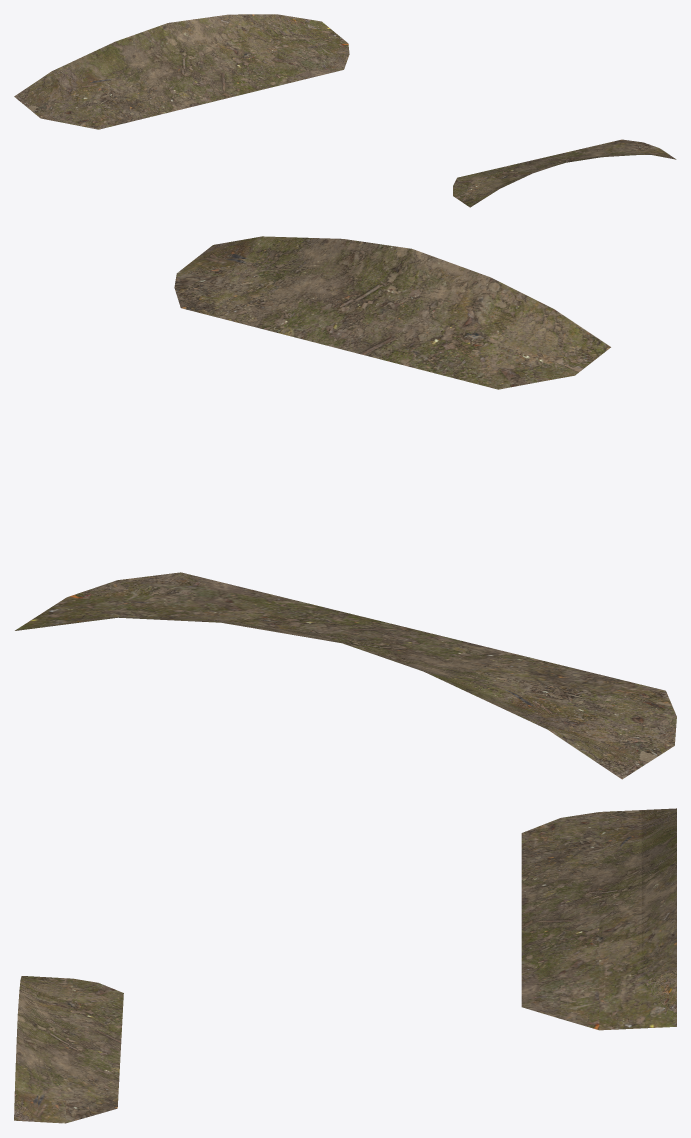
The model's file is SM_Prison_DirtPile00.fbx.
The picture shows the model from 3 angles, top to bottom: view 1: azimuth 30°, elevation 25°; view 2: azimuth 150°, elevation 25°; view 3: azimuth 270°, elevation 25°; orthographic projection. The views are drawn at different scales.
Parts seen in each view (by area): view 1: SM_Prison_DirtPile00; view 2: SM_Prison_DirtPile00; view 3: SM_Prison_DirtPile00.
Boxes of the visible parts, <box> form: SM_Prison_DirtPile00: <box>14,14,676,207</box>; SM_Prison_DirtPile00: <box>15,236,676,779</box>; SM_Prison_DirtPile00: <box>14,808,676,1123</box>.
Bounding box in the file's own units: 799 × 70.33 × 724.
